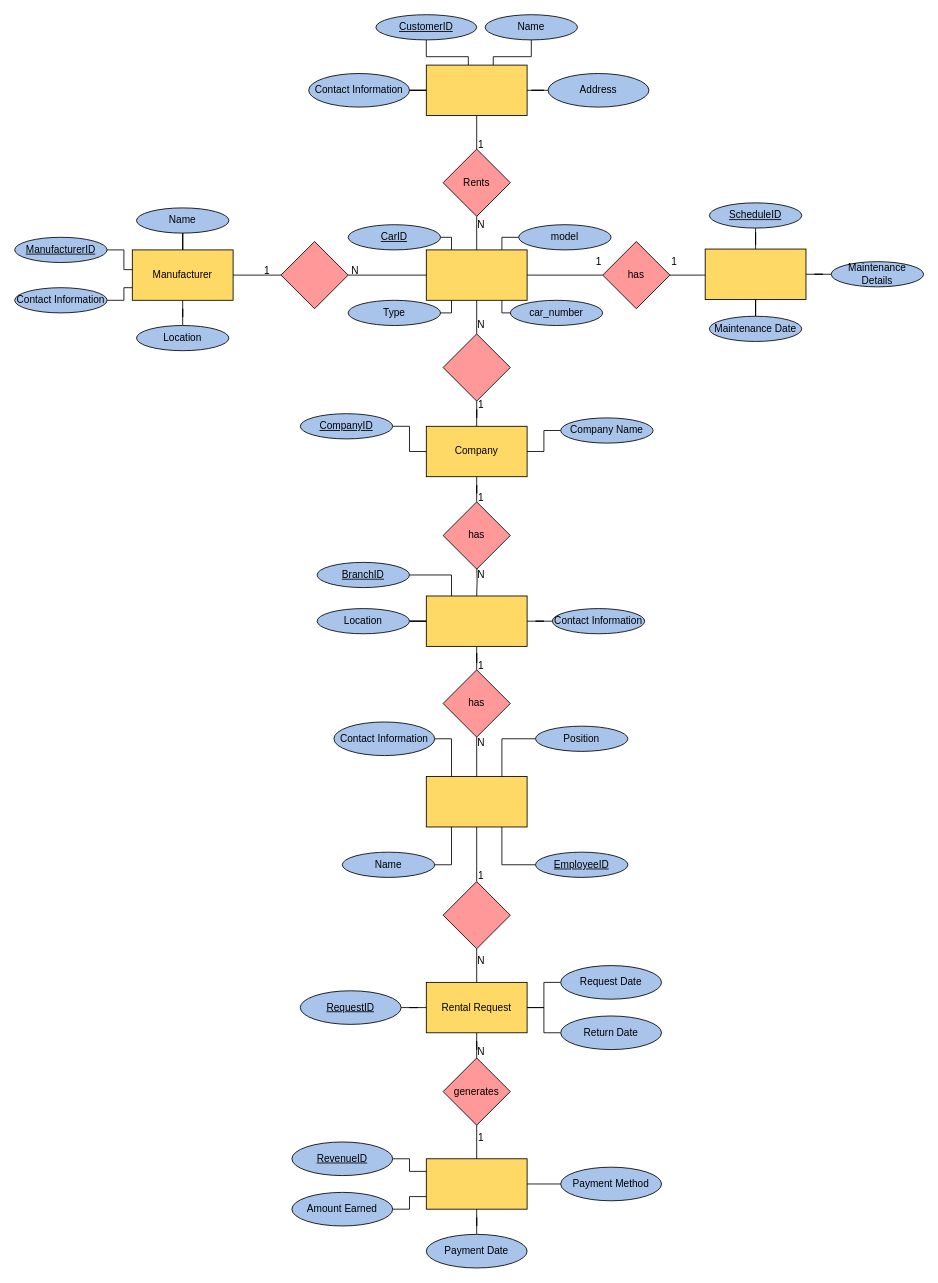
This 938x1283 diagram has some shape labels left out. The centre of each missing label's shape, as x and y in pixels:
"Branch" goes at point 476,620.
"Car" goes at point 476,274.
"Customer" goes at point 476,90.
"Employees" goes at point 476,801.
"handles" goes at point 476,915.
"Maintenance Schedule" goes at point 755,273.
"Manufactures" goes at point 314,275.
"owned by" goes at point 476,367.
"Revenue (of one car)" goes at point 476,1183.
